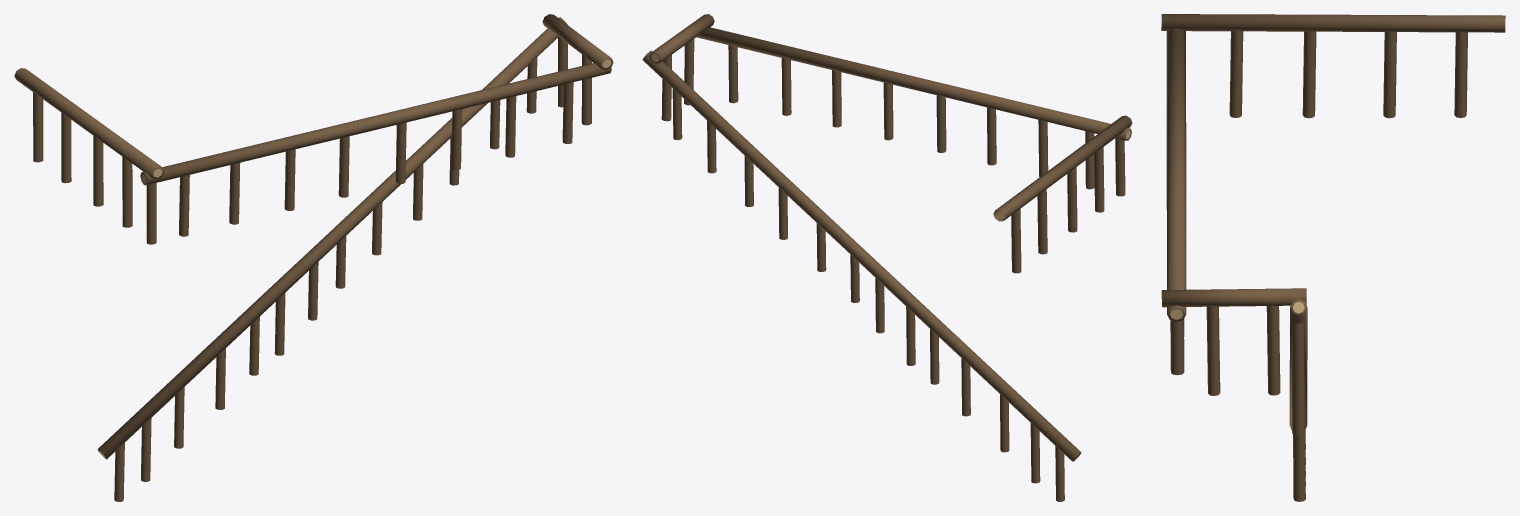
File: rpgpp_ag_stairs_interior_01a_4m_handrail_01.fbx
The picture shows the model from 3 angles, left to right: view 1: azimuth 30°, elevation 25°; view 2: azimuth 150°, elevation 25°; view 3: azimuth 270°, elevation 25°; orthographic projection. The views are drawn at different scales.
Parts seen in each view (by area): view 1: rpgpp_ag_stairs_interior_01a_4m_handrail_01; view 2: rpgpp_ag_stairs_interior_01a_4m_handrail_01; view 3: rpgpp_ag_stairs_interior_01a_4m_handrail_01.
Part boxes in pixels (x1,y1,x2,y2): rpgpp_ag_stairs_interior_01a_4m_handrail_01: [14, 14, 613, 501]; rpgpp_ag_stairs_interior_01a_4m_handrail_01: [642, 14, 1132, 501]; rpgpp_ag_stairs_interior_01a_4m_handrail_01: [1161, 14, 1505, 501].
Bounding box in the file's own units: 6.35 × 4.86 × 3.18.
